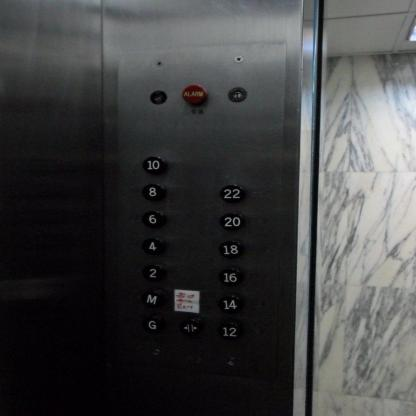10: (142, 155, 165, 174)
12: (216, 320, 241, 339)
14: (217, 294, 241, 314)
16: (217, 266, 243, 287)
18: (218, 239, 244, 258)
2: (140, 263, 164, 281)
20: (218, 211, 245, 231)
22: (218, 182, 246, 203)
4: (140, 237, 165, 256)
6: (141, 209, 165, 228)
8: (141, 182, 165, 200)
G: (141, 315, 162, 334)
M: (141, 289, 162, 306)
keyhole: (147, 90, 168, 104), (228, 86, 246, 102)
open: (177, 318, 202, 336)
text_ALARM: (180, 82, 208, 106)
